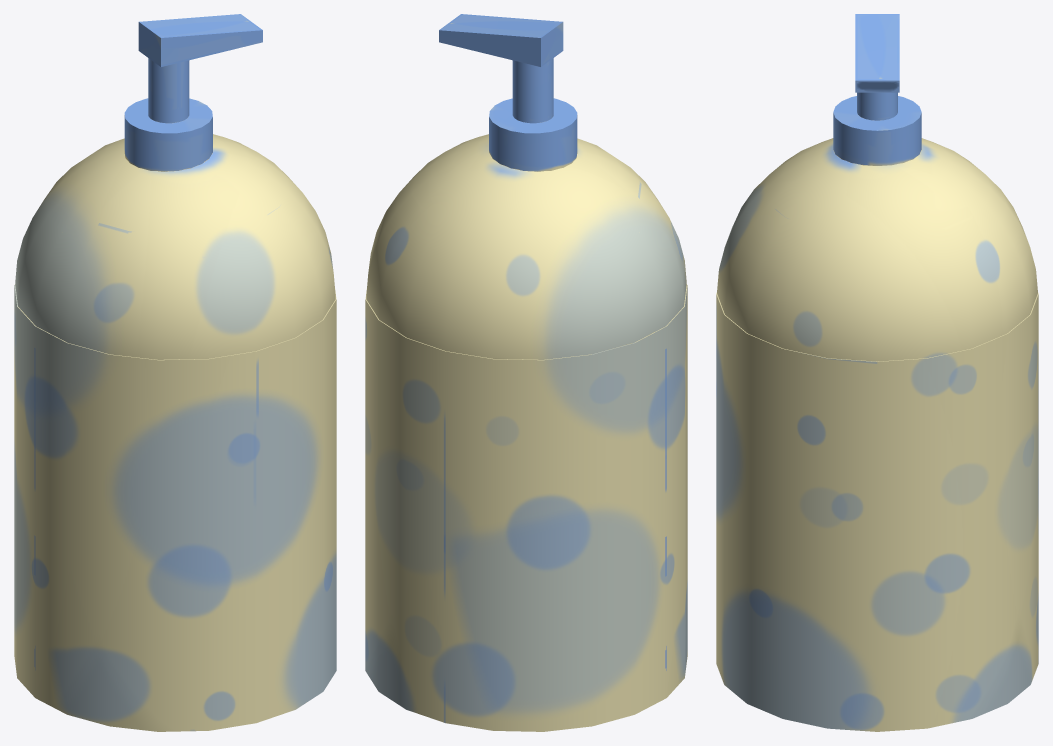
Rendered from gel_pintado.fbx.
3 renders of one model, left to right at view 1: azimuth 30°, elevation 25°; view 2: azimuth 150°, elevation 25°; view 3: azimuth 270°, elevation 25°, orthographic.
Parts seen in each view (by area): view 1: pCylinder5; view 2: pCylinder5; view 3: pCylinder5.
Boxes of the visible parts, x1,y1,x2,y2 form: pCylinder5: (14, 14, 336, 731); pCylinder5: (365, 14, 687, 731); pCylinder5: (716, 14, 1038, 731).
Size of the model in its own units: 731 by 1595 by 731.
Materials: 1 (1 with a texture image).
